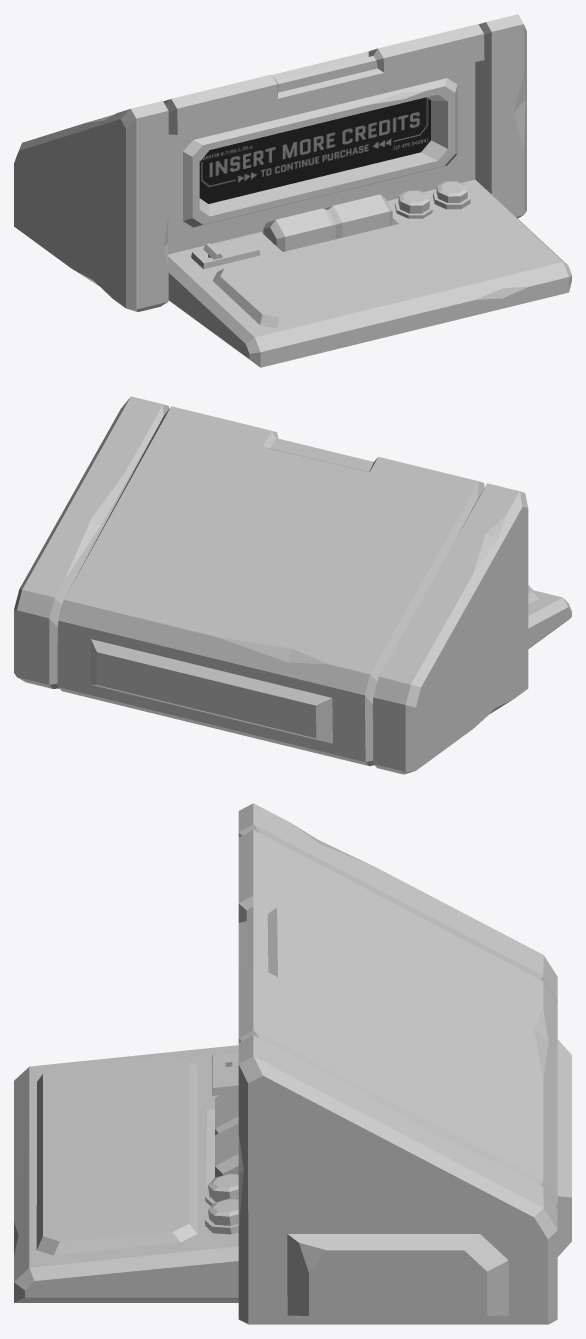
Rendered from SM_Prop_Kiosk_02.fbx.
3 views of the same model, one above another, from view 1: azimuth 30°, elevation 25°; view 2: azimuth 150°, elevation 25°; view 3: azimuth 270°, elevation 25° (orthographic). The views are drawn at different scales.
Visible parts, largest first — view 1: SM_Prop_Kiosk_02; view 2: SM_Prop_Kiosk_02; view 3: SM_Prop_Kiosk_02.
Part boxes in pixels (x1=…): SM_Prop_Kiosk_02: x1=14, y1=14, x2=571, y2=367; SM_Prop_Kiosk_02: x1=14, y1=396, x2=571, y2=774; SM_Prop_Kiosk_02: x1=14, y1=803, x2=571, y2=1324.
Size of the model in its own units: 81.54 by 38.3 by 71.22.
